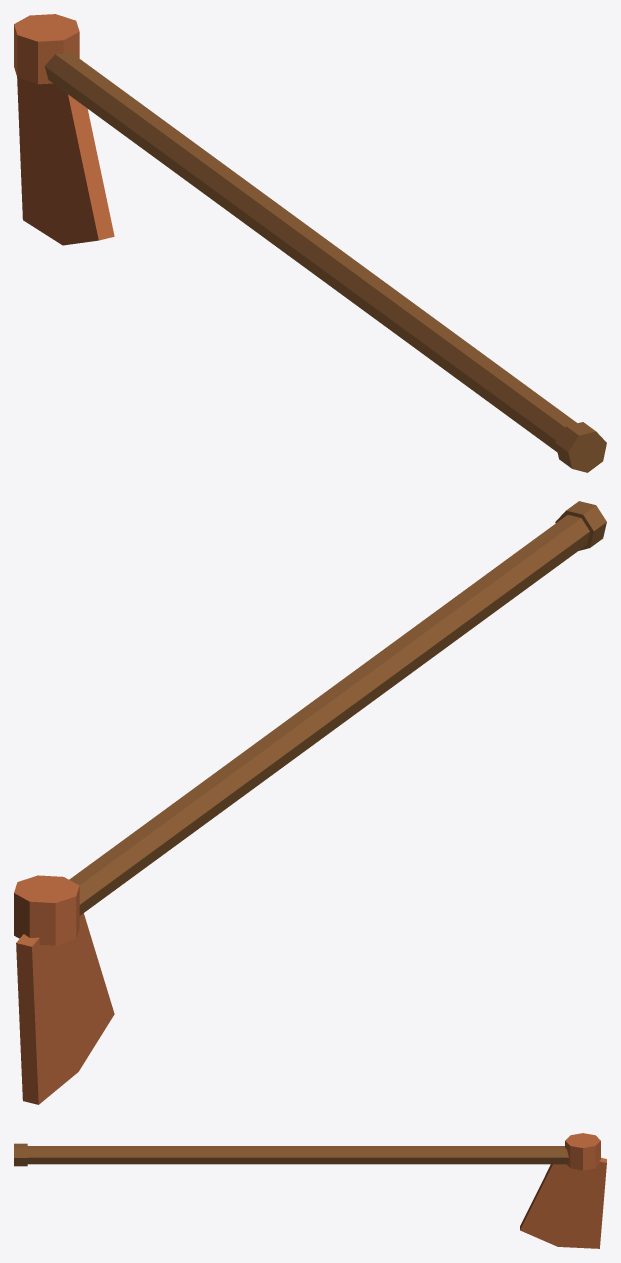
File: Tool_Hoe_Copper.fbx
The picture shows the model from 3 angles, top to bottom: view 1: azimuth 30°, elevation 25°; view 2: azimuth 150°, elevation 25°; view 3: azimuth 270°, elevation 25°; orthographic projection. The views are drawn at different scales.
Visible parts, largest first — view 1: Tool_Hoe_Copper; view 2: Tool_Hoe_Copper; view 3: Tool_Hoe_Copper.
Boxes of the visible parts, left/top/right/bottom form: Tool_Hoe_Copper: left=14, top=14, right=606, bottom=472; Tool_Hoe_Copper: left=14, top=501, right=606, bottom=1104; Tool_Hoe_Copper: left=14, top=1133, right=606, bottom=1248.
Bounding box in the file's own units: 2.6 × 8.53 × 43.14.
